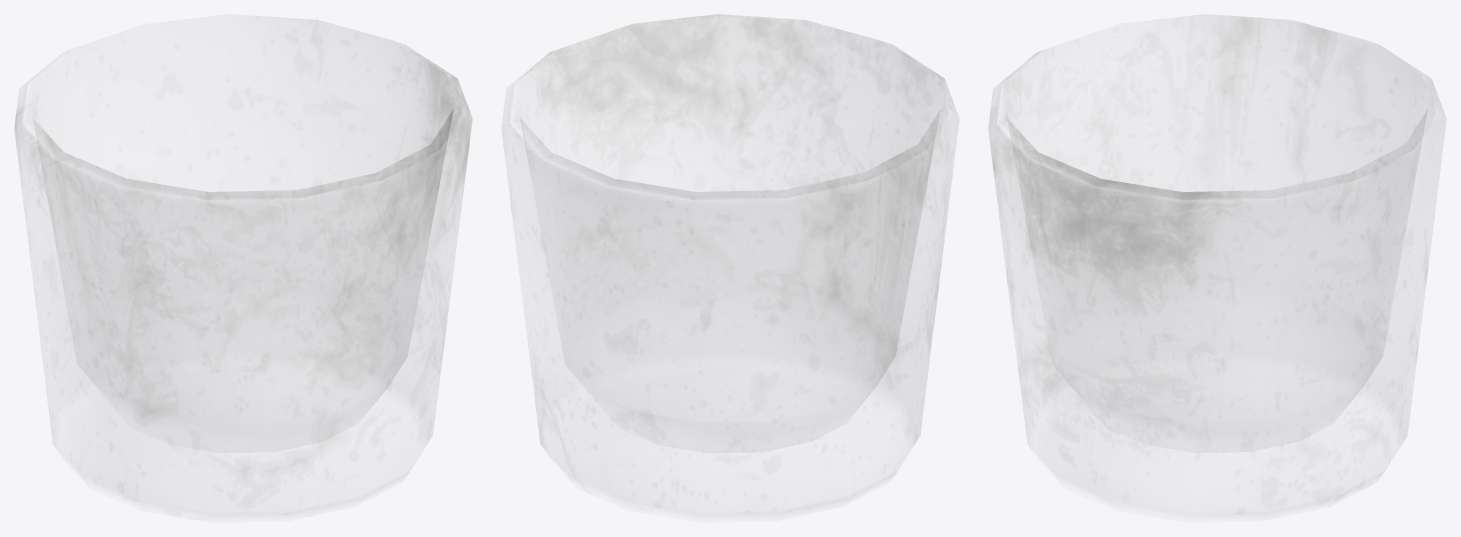
File: GlassMedium.fbx
3 renders of one model, left to right at view 1: azimuth 30°, elevation 25°; view 2: azimuth 150°, elevation 25°; view 3: azimuth 270°, elevation 25°, orthographic.
Visible parts, largest first — view 1: Default_Layer; view 2: Default_Layer; view 3: Default_Layer.
Boxes of the visible parts, box(x1,y1,x2,y2) form: Default_Layer: box(14, 14, 472, 522); Default_Layer: box(502, 14, 958, 522); Default_Layer: box(988, 14, 1446, 522).
Size of the model in its own units: 23.51 by 19.46 by 23.51.
